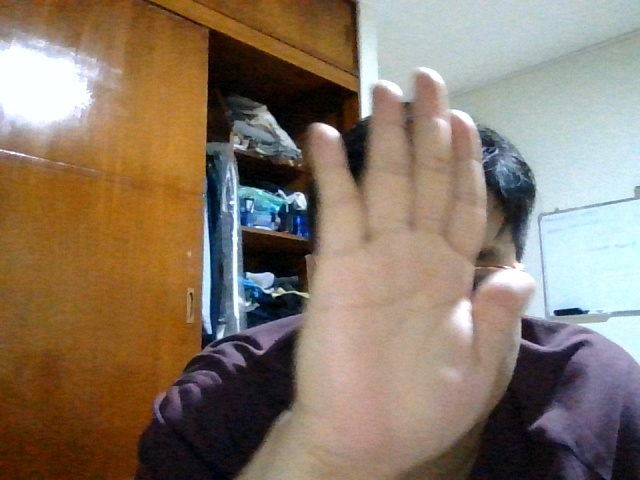hola: (294, 60, 533, 458)
